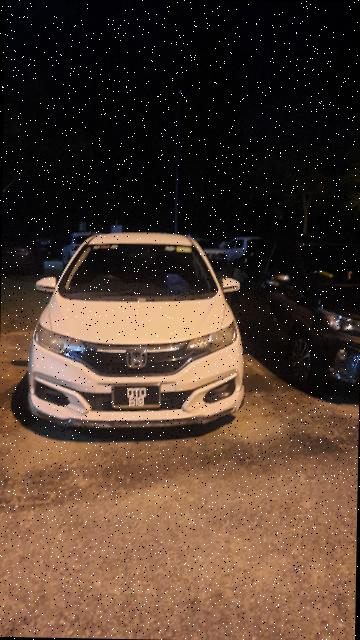License_Plate: (108, 378, 163, 412)
car: (22, 227, 249, 433)
